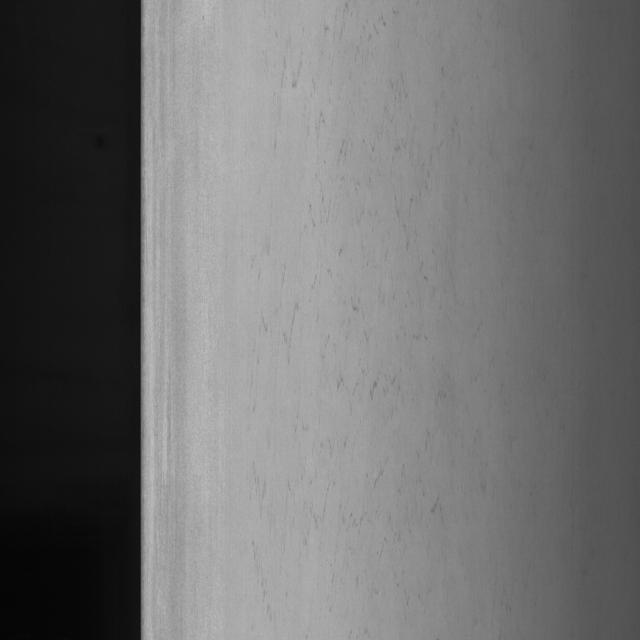inclusion: (262, 21, 452, 558)
